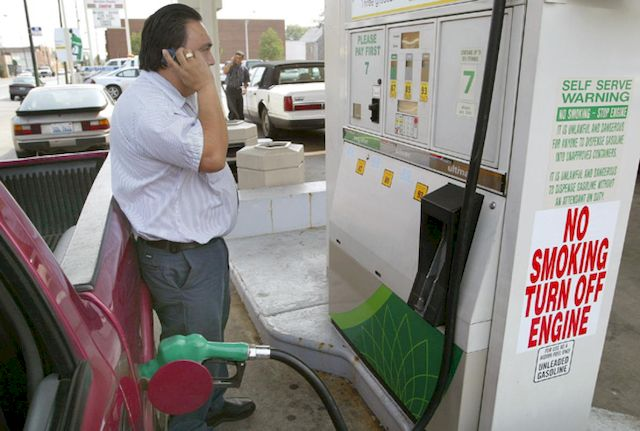phone: (159, 42, 196, 75)
talk: (155, 37, 218, 96)
